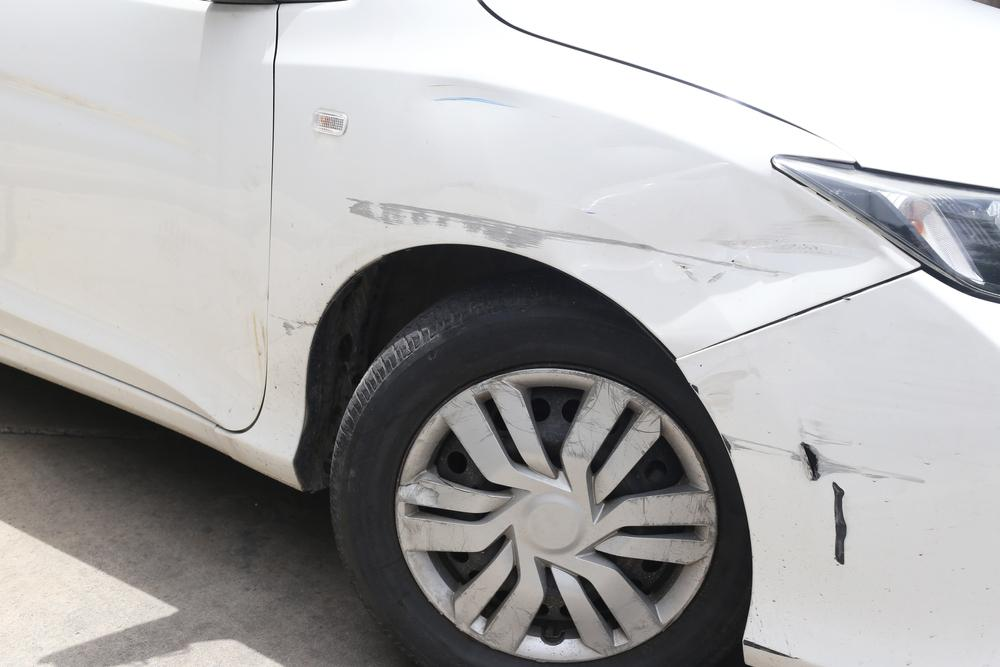dent: (358, 187, 870, 306)
scratch: (724, 419, 937, 573)
